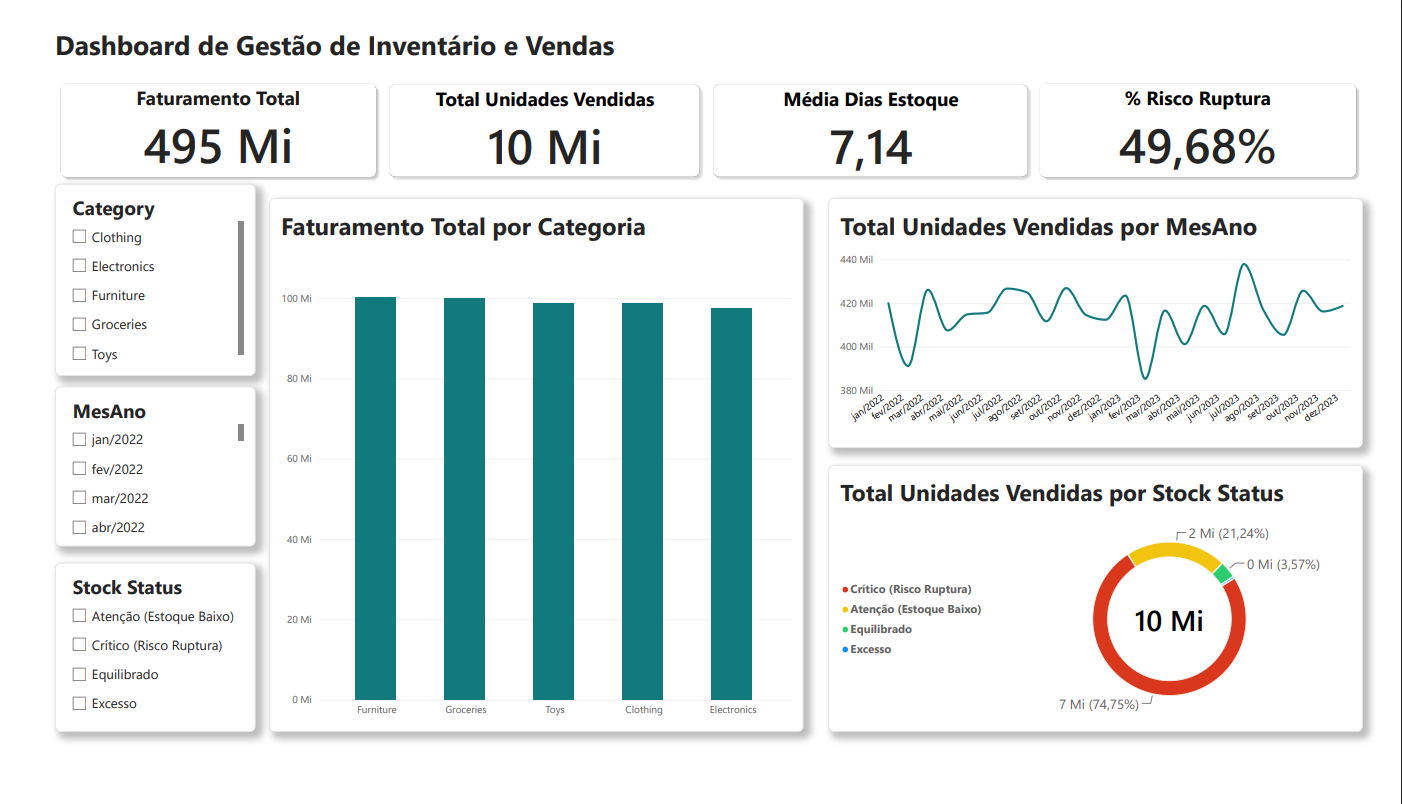

The dashboard page shown, as its layout file describes it:
{"tool":"powerbi","page":{"name":"Página 1","canvas":[1920,1080],"ordinal":0},"visuals":[{"type":"cardVisual","fields":{"Data":["_Medidas.Faturamento Total"]},"box":[55.9,86.5,458.9,149],"z":0},{"type":"cardVisual","fields":{"Data":["_Medidas.Média Dias Estoque"]},"box":[969.6,86.5,458.9,149],"z":1000},{"type":"cardVisual","fields":{"Data":["_Medidas.% Risco Ruptura"]},"box":[1428.5,86.5,460.2,149],"z":2000},{"type":"slicer","fields":{"Values":["retail_store_inventory_cleaned.Category"]},"box":[55.9,235.4,280.6,268.7],"z":3000},{"type":"slicer","fields":{"Values":["retail_store_inventory_cleaned.Stock Status"]},"box":[55.9,766.1,280.6,236.7],"z":4000},{"type":"slicer","fields":{"Values":["dCalendario.MesAno"]},"box":[55.9,518.7,280.6,224.8],"z":5000},{"type":"cardVisual","fields":{"Data":["_Medidas.Total Unidades Vendidas"]},"box":[514.7,86.5,454.9,149],"z":6000},{"type":"clusteredColumnChart","title":"Faturamento Total por Categoria","fields":{"Category":["retail_store_inventory_cleaned.Category"],"Y":["_Medidas.Faturamento Total"]},"box":[356.5,255.4,748.8,747.5],"z":7000},{"type":"lineChart","fields":{"Category":["dCalendario.MesAno"],"Y":["_Medidas.Total Unidades Vendidas"]},"box":[1139.9,255.4,748.8,349.8],"z":8000},{"type":"donutChart","fields":{"Category":["retail_store_inventory_cleaned.Stock Status"],"Y":["_Medidas.Total Unidades Vendidas"]},"box":[1139.9,629.1,748.8,373.7],"z":9000},{"type":"textbox","box":[55.9,14.6,1864.7,59.9],"z":10000}]}

Visuals, with their boxes in screenshot pixels (x1, y1, x2, y2), scaled from the page's 1920x1080 canvas onto the 1402x804 screenshot:
cardVisual - _Medidas.Faturamento Total: crop(41, 64, 376, 175)
cardVisual - _Medidas.Média Dias Estoque: crop(708, 64, 1043, 175)
cardVisual - _Medidas.% Risco Ruptura: crop(1043, 64, 1379, 175)
slicer - retail_store_inventory_cleaned.Category: crop(41, 175, 246, 375)
slicer - retail_store_inventory_cleaned.Stock Status: crop(41, 570, 246, 747)
slicer - dCalendario.MesAno: crop(41, 386, 246, 553)
cardVisual - _Medidas.Total Unidades Vendidas: crop(376, 64, 708, 175)
"Faturamento Total por Categoria" clusteredColumnChart: crop(260, 190, 807, 747)
lineChart - dCalendario.MesAno x _Medidas.Total Unidades Vendidas: crop(832, 190, 1379, 451)
donutChart - retail_store_inventory_cleaned.Stock Status x _Medidas.Total Unidades Vendidas: crop(832, 468, 1379, 747)
textbox: crop(41, 11, 1401, 55)
